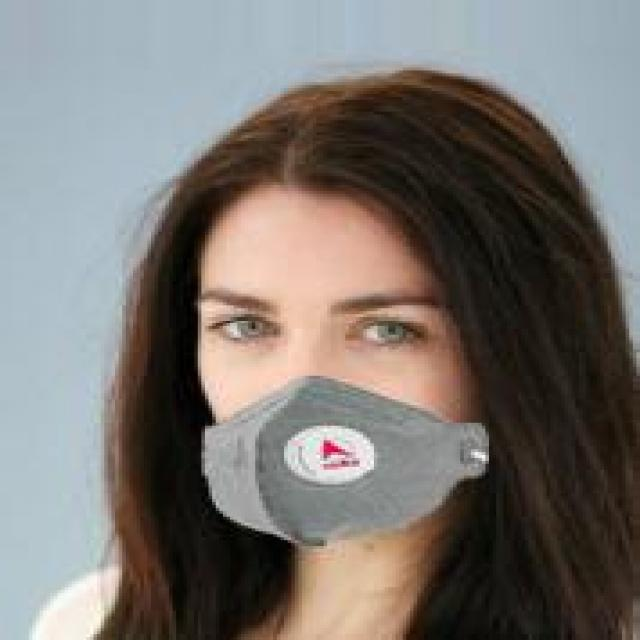mask: (68, 97, 568, 564)
